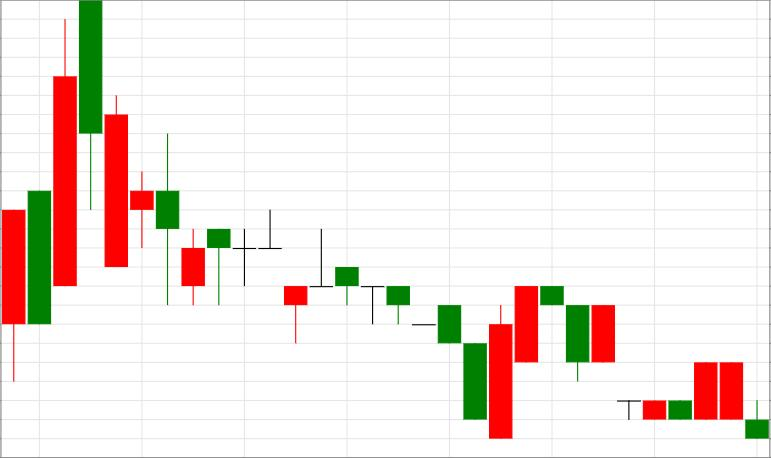bullish_engulfing_rise: (310, 230, 512, 439)
